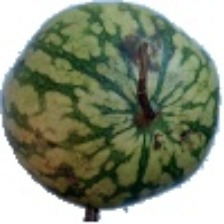watermelon: (15, 20, 192, 176)
